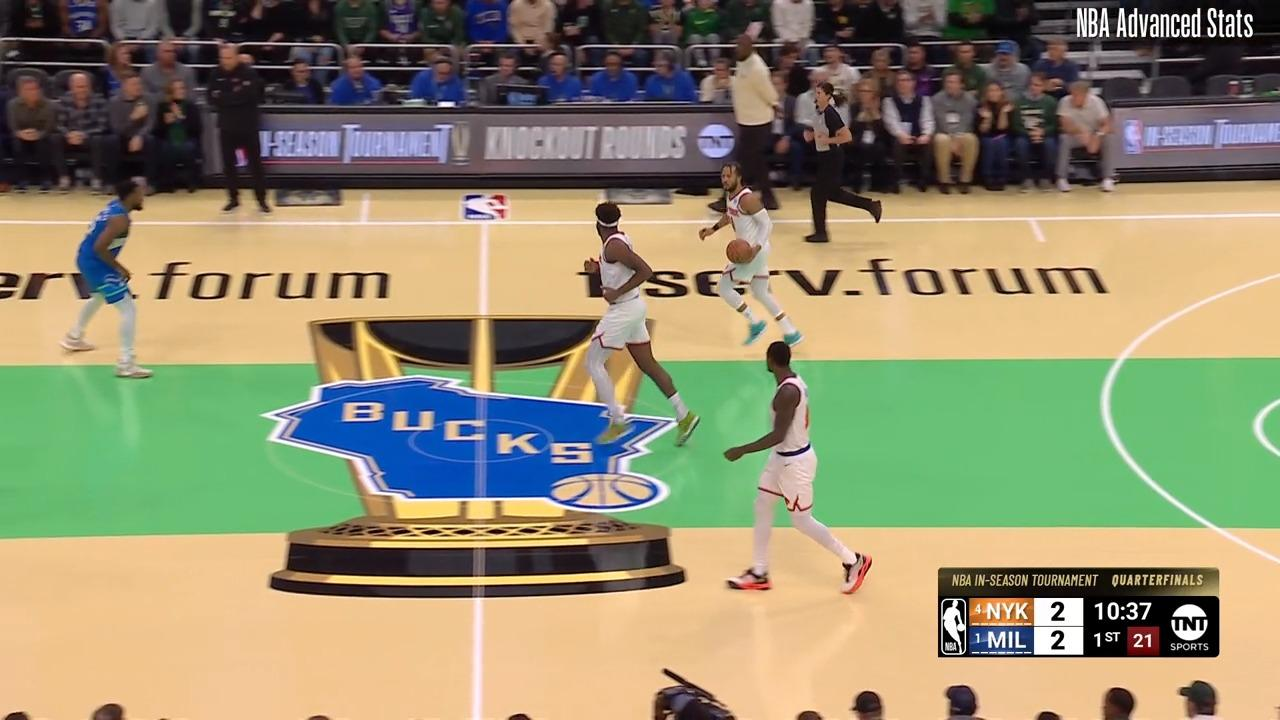Ball: (726, 239, 752, 264)
Person: (724, 336, 874, 596), (586, 202, 700, 449), (62, 175, 156, 387), (699, 160, 797, 355)
Referee: (778, 70, 878, 246)
